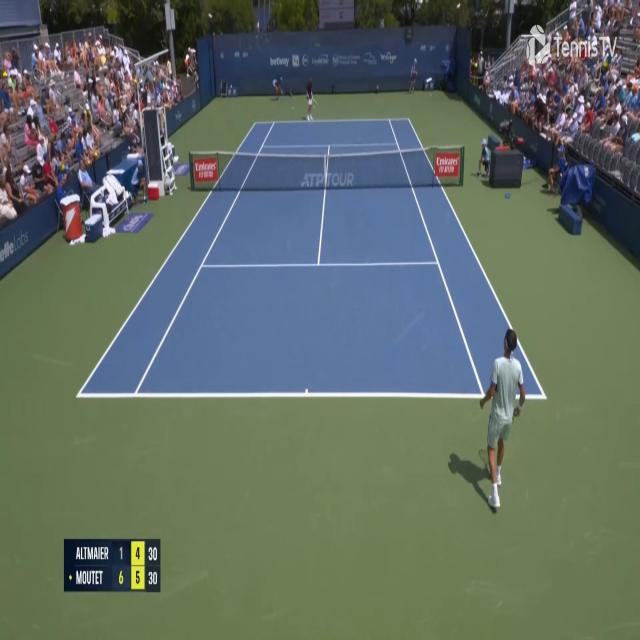tennis-player: (467, 321, 543, 518), (304, 73, 318, 123)
